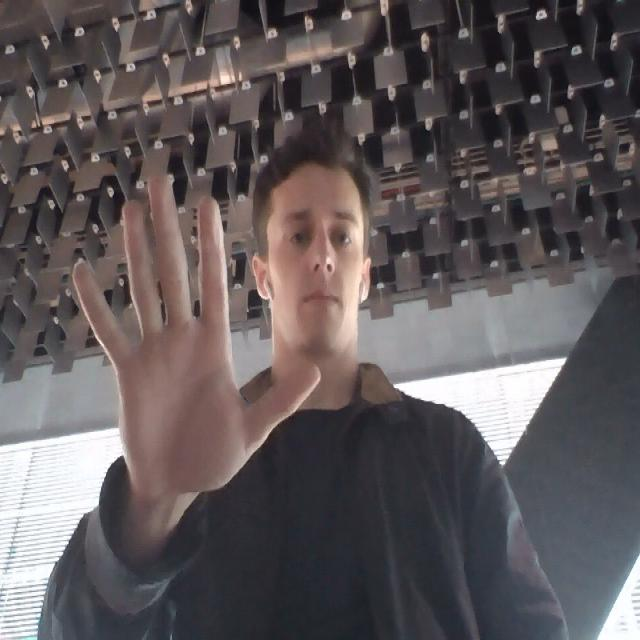backward: (59, 166, 327, 486)
